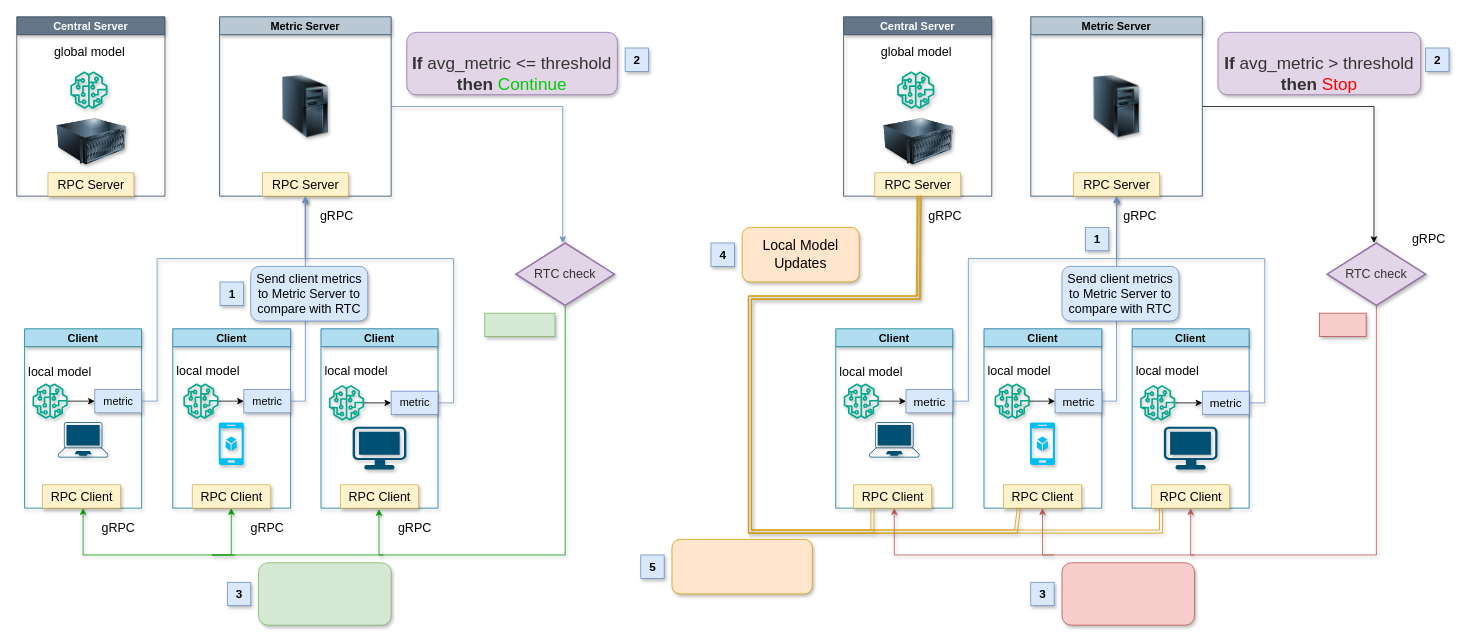
Some shapes in this 1474 by 644 pixel diagram are drawn without their labels. Here are the shapes that lost their labels. From the top down, the centre of each, then its label:
point (520, 325): Continue
point (1343, 325): Stop
point (742, 567): Return Aggregated Model for next round to begin
point (325, 595): Receive metric Server response to continue round
point (1128, 595): Receive metric Server response to stop round
